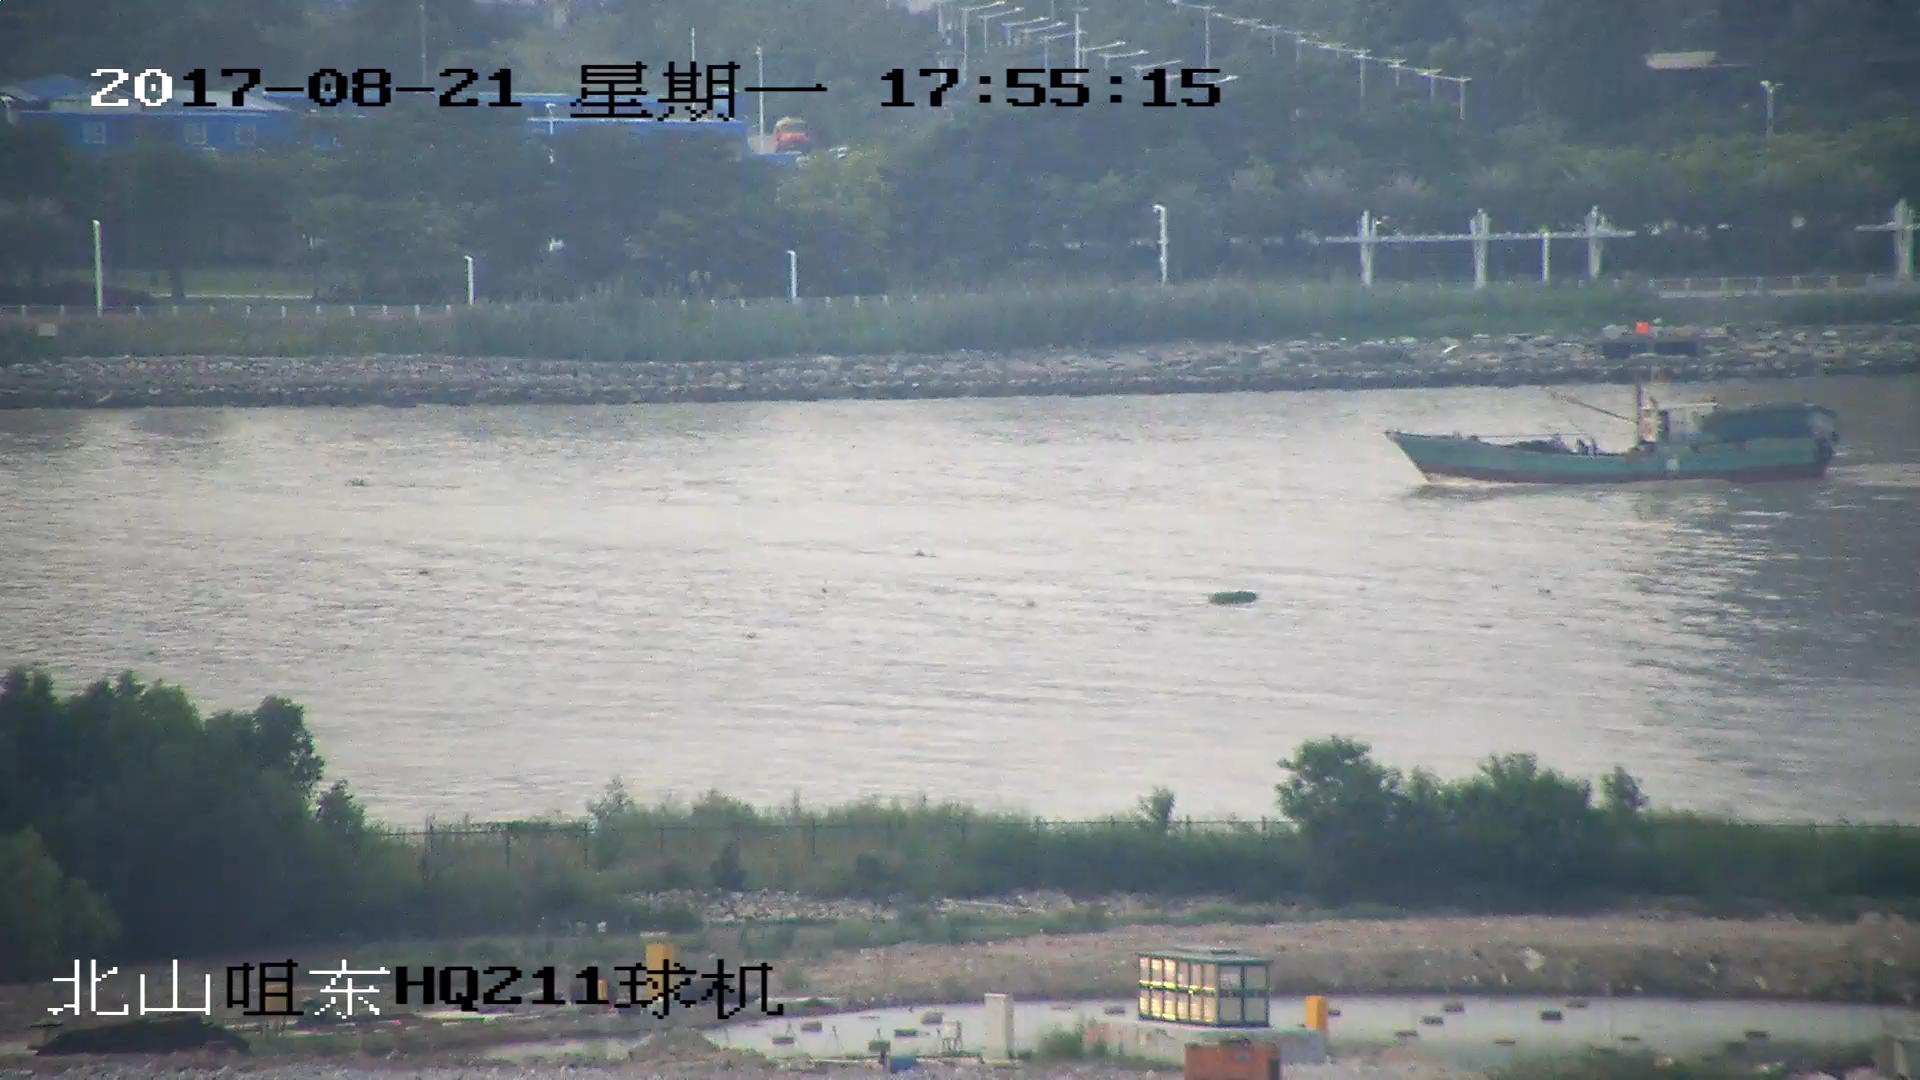fishing boat: (1392, 327, 1835, 484)
